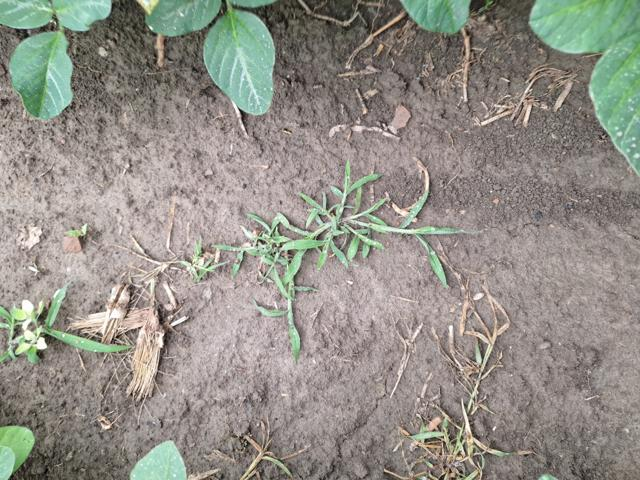bad weed: (179, 144, 480, 340), (388, 293, 547, 474), (4, 281, 118, 375)
